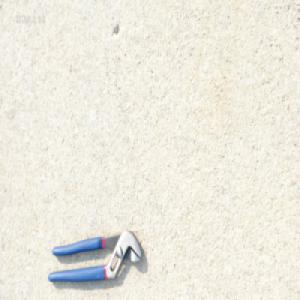Pliers: (46, 226, 144, 283)
